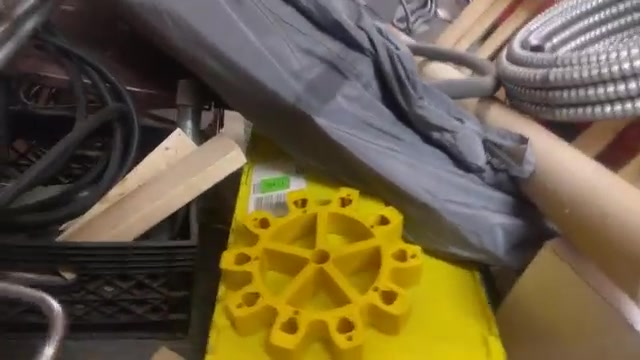gear: (219, 159, 435, 360)
